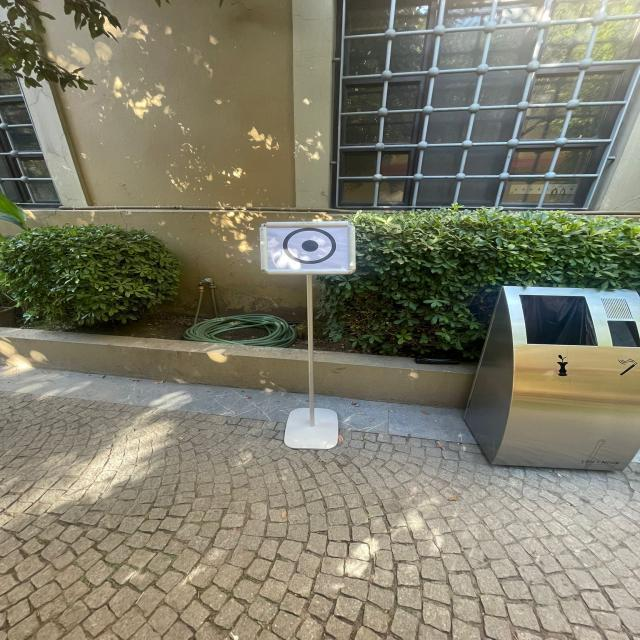Target: (247, 208, 368, 284)
inner: (294, 235, 324, 257)
